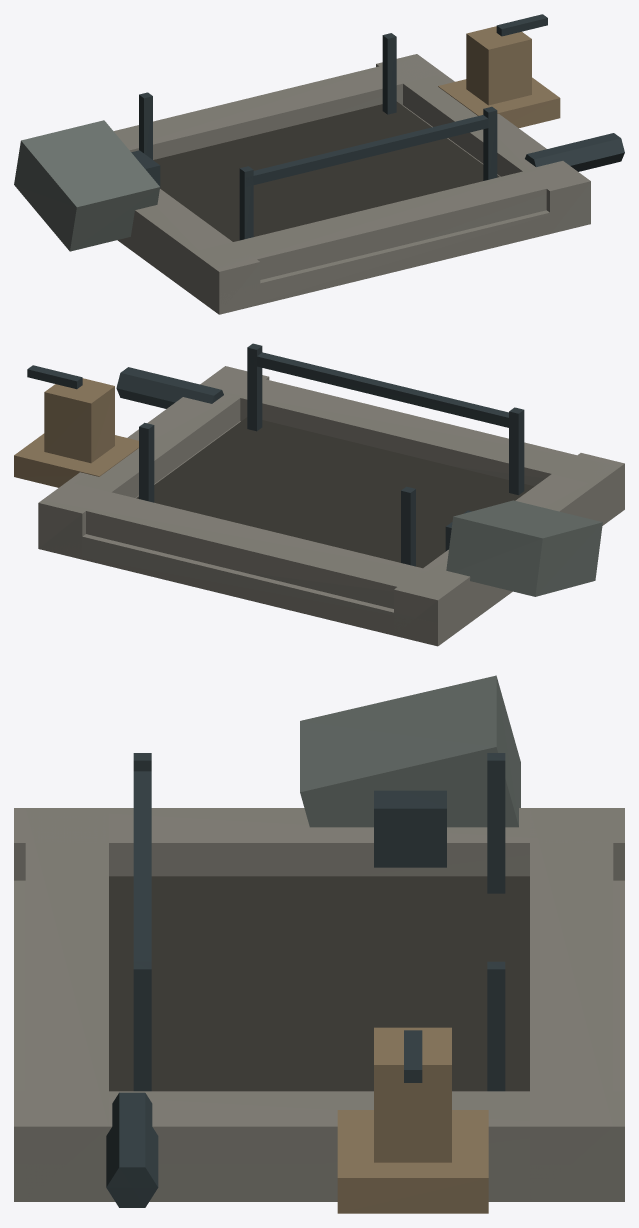
The model's file is manure-pit.source.glb.
The picture shows the model from 3 angles, top to bottom: view 1: azimuth 30°, elevation 25°; view 2: azimuth 150°, elevation 25°; view 3: azimuth 270°, elevation 25°; orthographic projection. The views are drawn at different scales.
Visible parts, largest first — view 1: manure-pit-low-reinforced-safety-curb-mesh (×4), manure-pit-dark-contained-pit-interior-cue-mesh, manure-pit-covered-manure-inlet-chute-mesh, manure-pit-reinforced-concrete-pit-slab-mesh, manure-pit-service-pump-valve-box-mesh, manure-pit-compact-safety-guard-post-mesh (×4), manure-pit-front-safety-guard-rail-mesh, manure-pit-small-service-pump-platform-mesh, manure-pit-removal-drain-access-pipe-mesh, manure-pit-visible-isolation-valve-handle-mesh, manure-pit-inlet-chute-collar-mesh; view 2: manure-pit-low-reinforced-safety-curb-mesh (×4), manure-pit-dark-contained-pit-interior-cue-mesh, manure-pit-reinforced-concrete-pit-slab-mesh, manure-pit-covered-manure-inlet-chute-mesh, manure-pit-service-pump-valve-box-mesh, manure-pit-compact-safety-guard-post-mesh (×4), manure-pit-front-safety-guard-rail-mesh, manure-pit-small-service-pump-platform-mesh, manure-pit-removal-drain-access-pipe-mesh, manure-pit-visible-isolation-valve-handle-mesh; view 3: manure-pit-low-reinforced-safety-curb-mesh (×4), manure-pit-dark-contained-pit-interior-cue-mesh, manure-pit-covered-manure-inlet-chute-mesh, manure-pit-reinforced-concrete-pit-slab-mesh, manure-pit-small-service-pump-platform-mesh, manure-pit-service-pump-valve-box-mesh, manure-pit-compact-safety-guard-post-mesh (×3), manure-pit-inlet-chute-collar-mesh, manure-pit-removal-drain-access-pipe-mesh, manure-pit-front-safety-guard-rail-mesh, manure-pit-visible-isolation-valve-handle-mesh.
Part boxes in pixels (x1=…): manure-pit-low-reinforced-safety-curb-mesh (×4): x1=113, y1=54, x2=590, y2=313; manure-pit-dark-contained-pit-interior-cue-mesh: x1=153, y1=101, x2=499, y2=241; manure-pit-covered-manure-inlet-chute-mesh: x1=14, y1=120, x2=159, y2=251; manure-pit-reinforced-concrete-pit-slab-mesh: x1=117, y1=105, x2=549, y2=314; manure-pit-service-pump-valve-box-mesh: x1=466, y1=26, x2=531, y2=105; manure-pit-compact-safety-guard-post-mesh (×4): x1=139, y1=33, x2=497, y2=240; manure-pit-front-safety-guard-rail-mesh: x1=246, y1=115, x2=488, y2=186; manure-pit-small-service-pump-platform-mesh: x1=438, y1=77, x2=560, y2=127; manure-pit-removal-drain-access-pipe-mesh: x1=525, y1=133, x2=624, y2=171; manure-pit-visible-isolation-valve-handle-mesh: x1=496, y1=14, x2=547, y2=36; manure-pit-inlet-chute-collar-mesh: x1=131, y1=150, x2=160, y2=188; manure-pit-low-reinforced-safety-curb-mesh (×4): x1=38, y1=366, x2=624, y2=645; manure-pit-dark-contained-pit-interior-cue-mesh: x1=136, y1=417, x2=534, y2=568; manure-pit-reinforced-concrete-pit-slab-mesh: x1=38, y1=421, x2=624, y2=646; manure-pit-covered-manure-inlet-chute-mesh: x1=446, y1=500, x2=602, y2=596; manure-pit-service-pump-valve-box-mesh: x1=44, y1=378, x2=114, y2=463; manure-pit-compact-safety-guard-post-mesh (×4): x1=139, y1=343, x2=524, y2=566; manure-pit-front-safety-guard-rail-mesh: x1=248, y1=352, x2=508, y2=427; manure-pit-small-service-pump-platform-mesh: x1=14, y1=433, x2=138, y2=487; manure-pit-removal-drain-access-pipe-mesh: x1=116, y1=367, x2=223, y2=408; manure-pit-visible-isolation-valve-handle-mesh: x1=27, y1=365, x2=82, y2=389; manure-pit-low-reinforced-safety-curb-mesh (×4): x1=14, y1=808, x2=624, y2=1201; manure-pit-dark-contained-pit-interior-cue-mesh: x1=109, y1=876, x2=529, y2=1091; manure-pit-covered-manure-inlet-chute-mesh: x1=300, y1=675, x2=520, y2=827; manure-pit-reinforced-concrete-pit-slab-mesh: x1=14, y1=880, x2=624, y2=1201; manure-pit-small-service-pump-platform-mesh: x1=337, y1=1110, x2=488, y2=1213; manure-pit-service-pump-valve-box-mesh: x1=374, y1=1027, x2=451, y2=1162; manure-pit-compact-safety-guard-post-mesh (×3): x1=133, y1=753, x2=505, y2=1091; manure-pit-inlet-chute-collar-mesh: x1=374, y1=790, x2=446, y2=867; manure-pit-removal-drain-access-pipe-mesh: x1=106, y1=1092, x2=158, y2=1207; manure-pit-front-safety-guard-rail-mesh: x1=133, y1=771, x2=151, y2=961; manure-pit-visible-isolation-valve-handle-mesh: x1=404, y1=1030, x2=422, y2=1082.
Bounding box in the file's own units: 3.9 × 0.8075 × 2.35.
